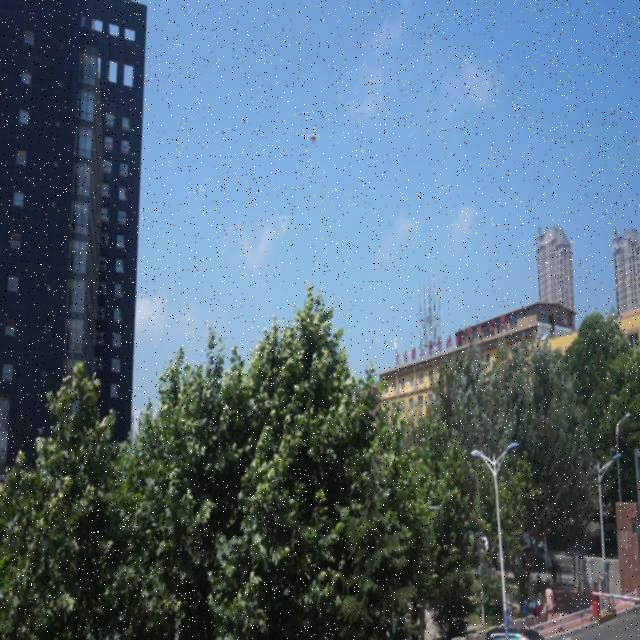UAV: (307, 133, 320, 144)
